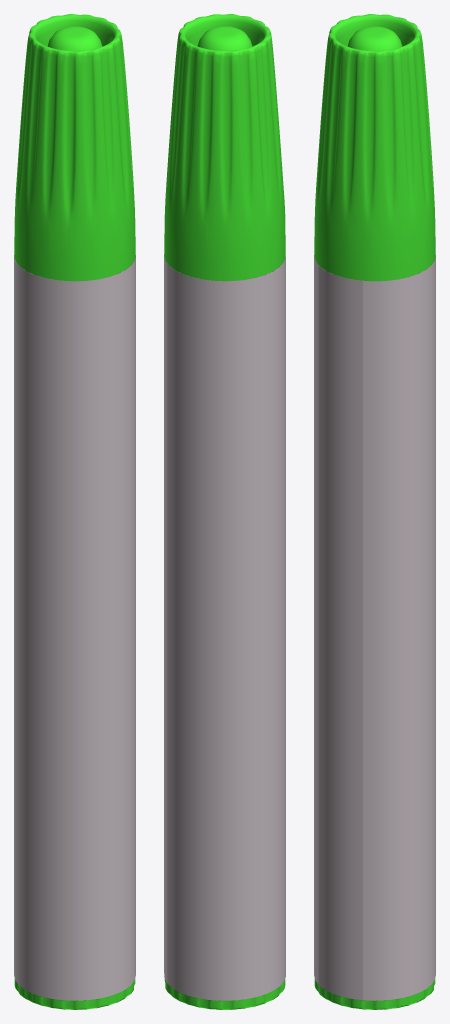
The model's file is marker_green.fbx.
3 views of the same model, side by side, from view 1: azimuth 90°, elevation 25°; view 2: azimuth 210°, elevation 25°; view 3: azimuth 270°, elevation 25° (orthographic).
Visible parts, largest first — view 1: Cylinder, Cylinder.002; view 2: Cylinder, Cylinder.002; view 3: Cylinder.002, Cylinder.
Part boxes in pixels (left/top/right/bottom): Cylinder: left=14, top=255, right=135, bottom=1000; Cylinder.002: left=14, top=14, right=135, bottom=1009; Cylinder: left=167, top=257, right=285, bottom=1000; Cylinder.002: left=164, top=14, right=285, bottom=1009; Cylinder.002: left=314, top=14, right=435, bottom=1009; Cylinder: left=314, top=255, right=435, bottom=1000.
Bounding box in the file's own units: 19.82 × 171 × 19.82.
